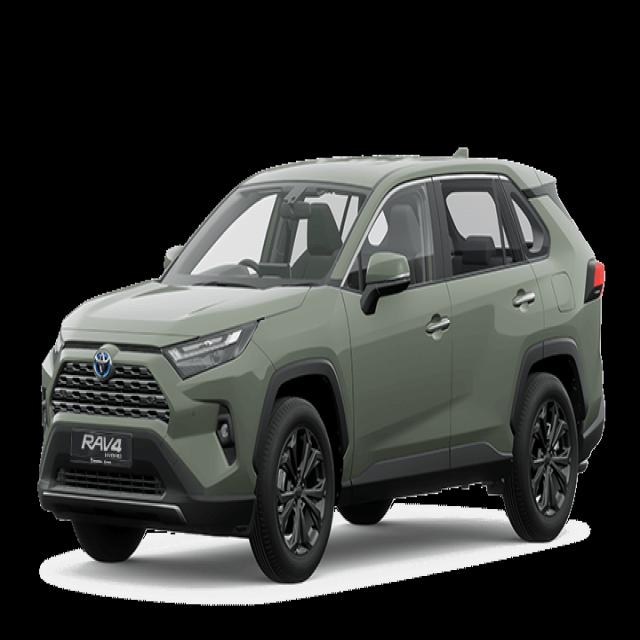light_vehicle: (39, 150, 606, 585)
